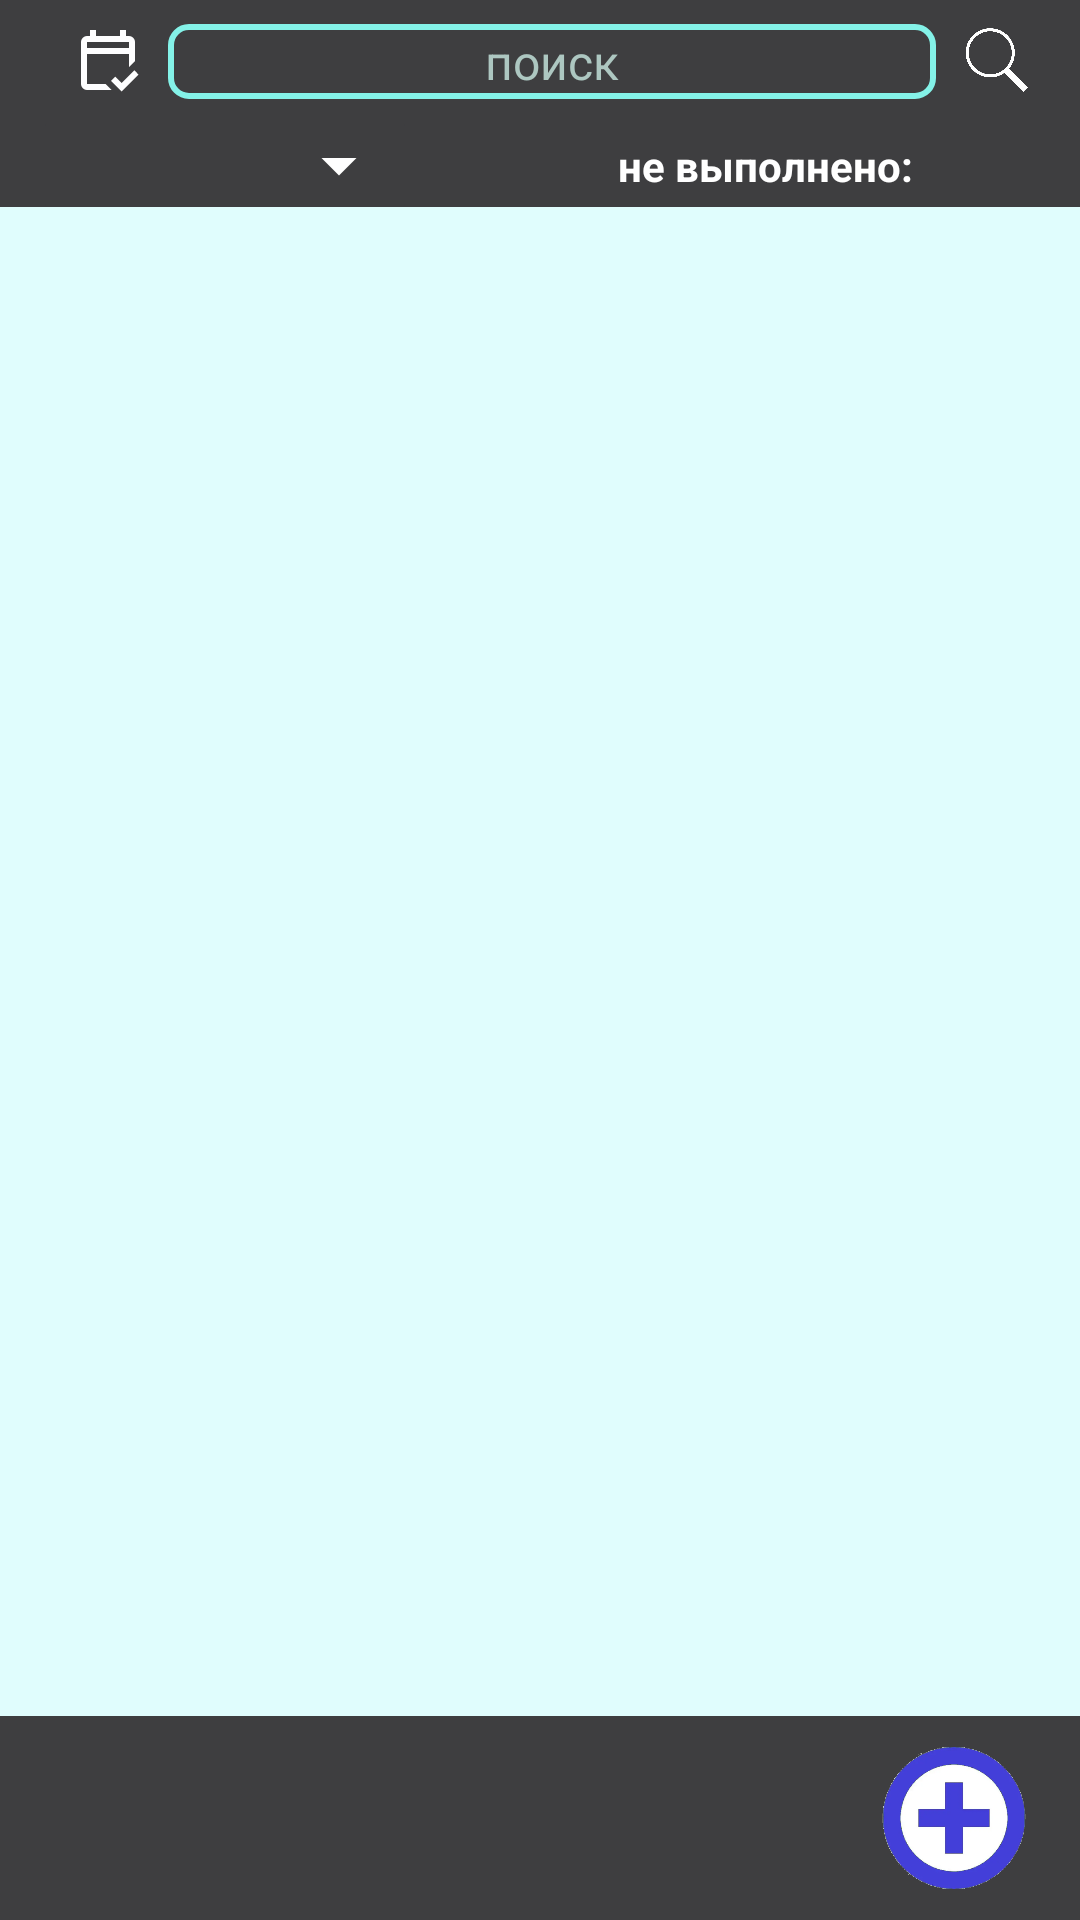

Icon click points for this 1080 × 1920 phone screenshot, format (x,y):
btnadda: (954,1818)
calendar check: (110,61)
search: (997,60)
